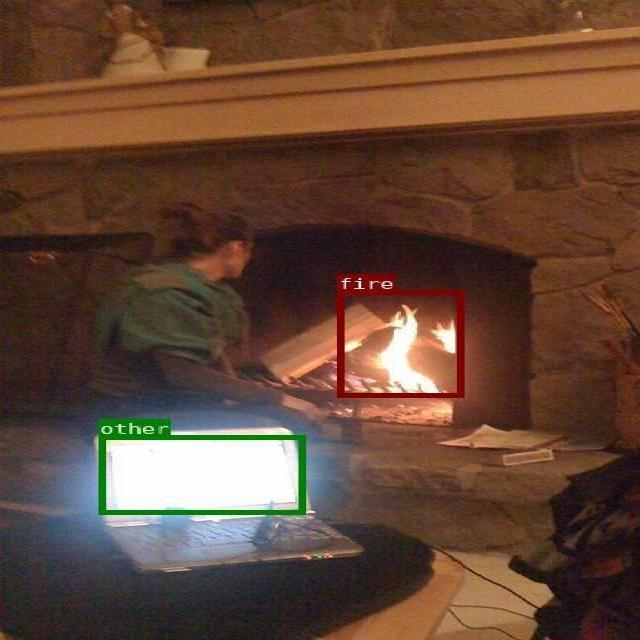fire: (336, 290, 463, 396)
